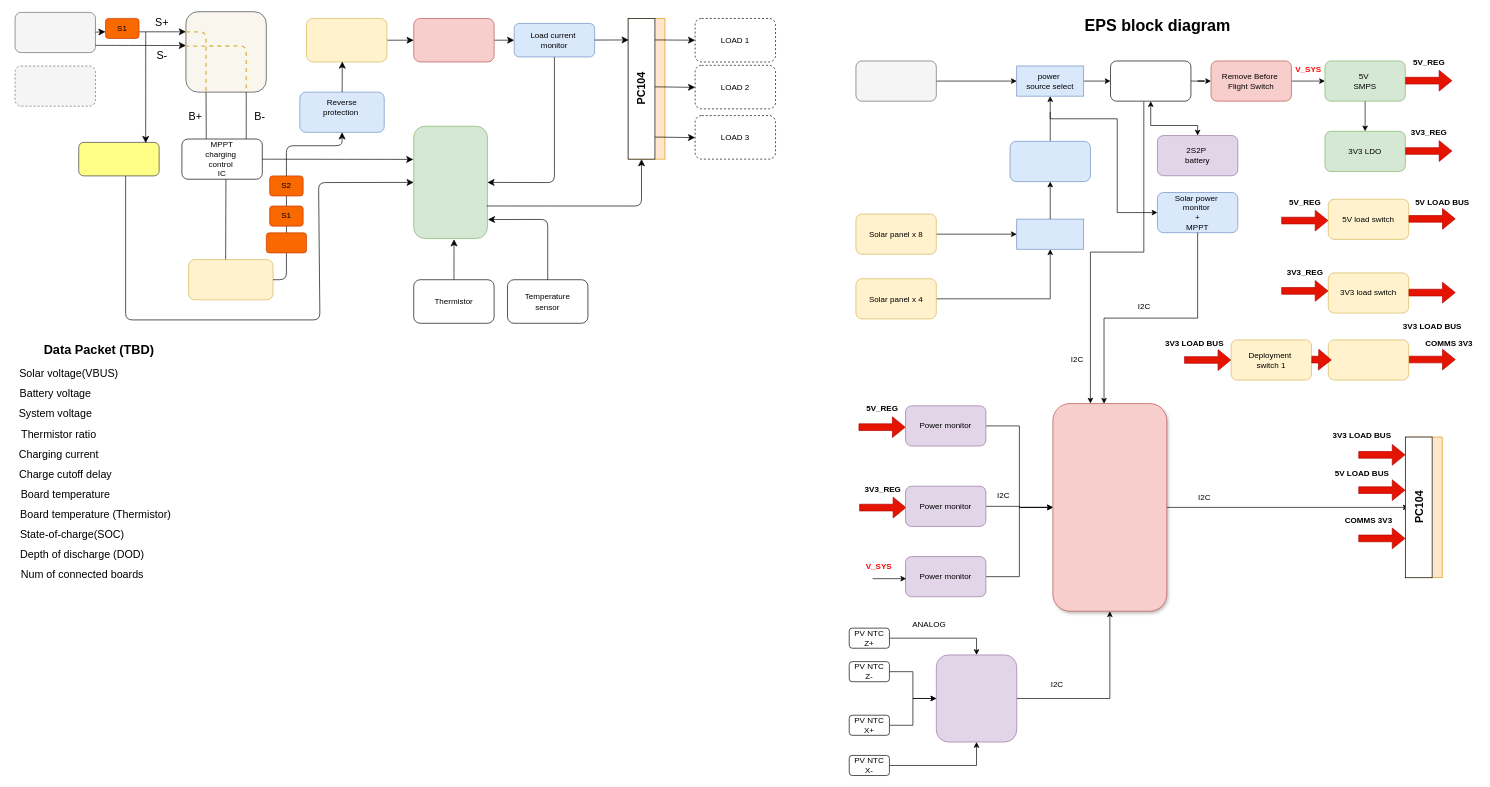
The diagram is 1490 pixels wide and 787 high, and some of its shapes have lost their labels. Here are the shapes that lost their labels. From the top down, the centre of each, then its label:
At pixel 54 32: "solar panel 1".
At pixel 346 40: "voltage supervisor IC".
At pixel 453 40: "Boost converter".
At pixel 54 85: "solar panel 2".
At pixel 895 80: "12V in adapter".
At pixel 1150 80: "charge controller IC".
At pixel 118 159: "Solar voltage meter".
At pixel 1049 161: "Solar boost converter".
At pixel 450 182: "STM8".
At pixel 286 242: "RBF switch".
At pixel 1050 233: "Solar panel qty select".
At pixel 230 279: "Battery".
At pixel 1368 359: "Deployment switch 2".
At pixel 1110 508: "EPS MCU".
At pixel 976 698: "External ADC".
